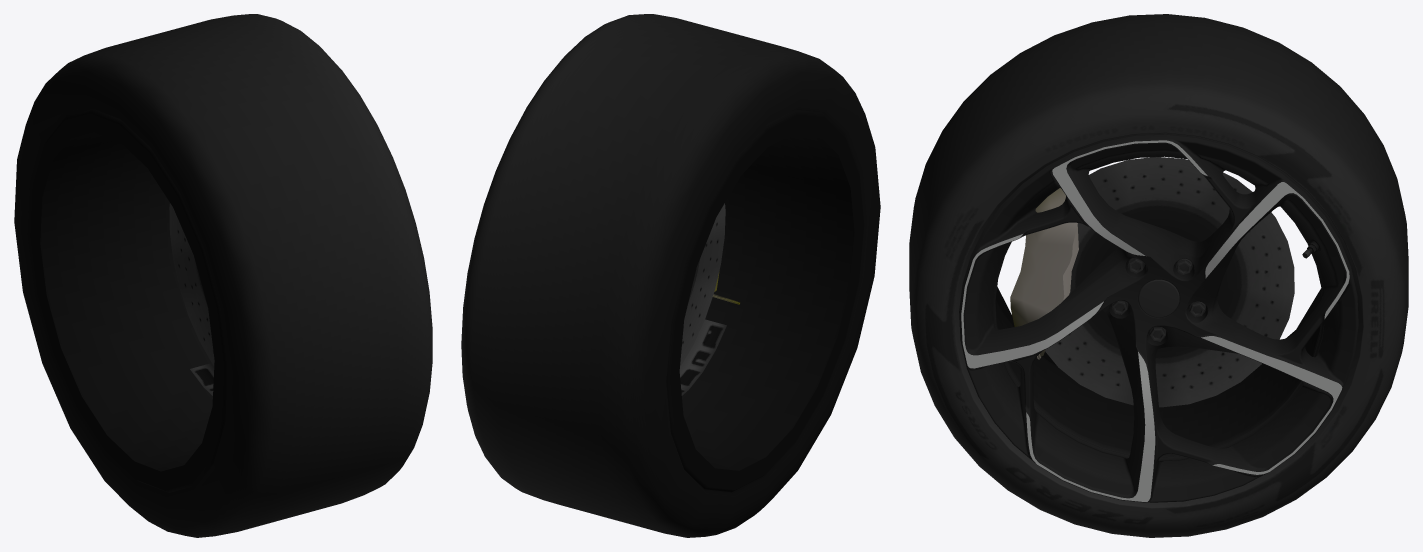
File: wheels_lr.glb
3 renders of one model, left to right at view 1: azimuth 30°, elevation 25°; view 2: azimuth 150°, elevation 25°; view 3: azimuth 270°, elevation 25°, orthographic.
Parts seen in each view (by area): view 1: polySurface478_McLaren_Elva_2021_Wheel1A_3D_3DWheel1A_Materi, polySurface446_McLaren_Elva_2021_Wheel1A_3D_3DWheel1A_Materi; view 2: polySurface478_McLaren_Elva_2021_Wheel1A_3D_3DWheel1A_Materi, polySurface446_McLaren_Elva_2021_Wheel1A_3D_3DWheel1A_Materi; view 3: polySurface446_McLaren_Elva_2021_Wheel1A_3D_3DWheel1A_Materi, polySurface478_McLaren_Elva_2021_Wheel1A_3D_3DWheel1A_Materi.
Part boxes in pixels (left/top/right/bottom): polySurface478_McLaren_Elva_2021_Wheel1A_3D_3DWheel1A_Materi: left=14, top=14, right=432, bottom=537; polySurface446_McLaren_Elva_2021_Wheel1A_3D_3DWheel1A_Materi: left=30, top=109, right=227, bottom=492; polySurface478_McLaren_Elva_2021_Wheel1A_3D_3DWheel1A_Materi: left=461, top=14, right=880, bottom=537; polySurface446_McLaren_Elva_2021_Wheel1A_3D_3DWheel1A_Materi: left=666, top=109, right=864, bottom=492; polySurface446_McLaren_Elva_2021_Wheel1A_3D_3DWheel1A_Materi: left=959, top=134, right=1358, bottom=502; polySurface478_McLaren_Elva_2021_Wheel1A_3D_3DWheel1A_Materi: left=909, top=14, right=1408, bottom=537.
Size of the model in its own units: 0.00329 by 0.00695 by 0.00691.
2 materials, 1 textured.
